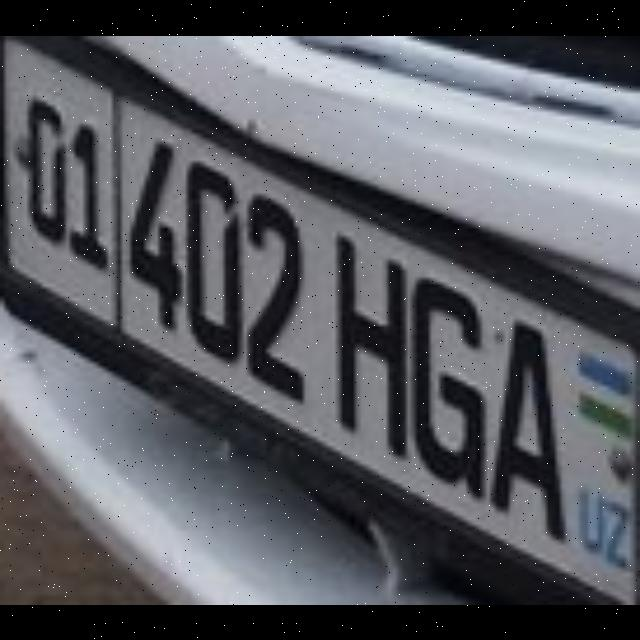0: (182, 156, 238, 358), (23, 90, 65, 236)
1: (66, 114, 102, 264)
2: (238, 184, 300, 400)
4: (121, 134, 177, 320)
A: (486, 315, 560, 535)
G: (406, 269, 482, 493)
H: (332, 231, 402, 451)
